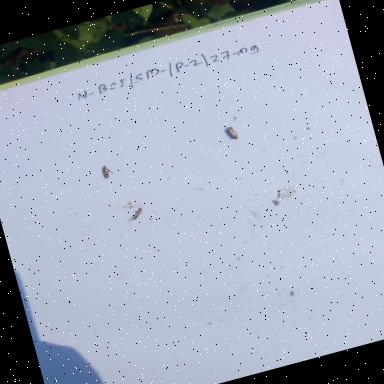pbw: (85, 156, 124, 188), (216, 116, 252, 150), (122, 202, 156, 225)
